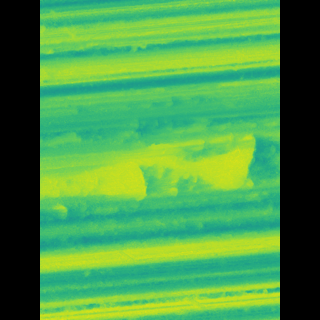Loch: (79, 117, 234, 202)
